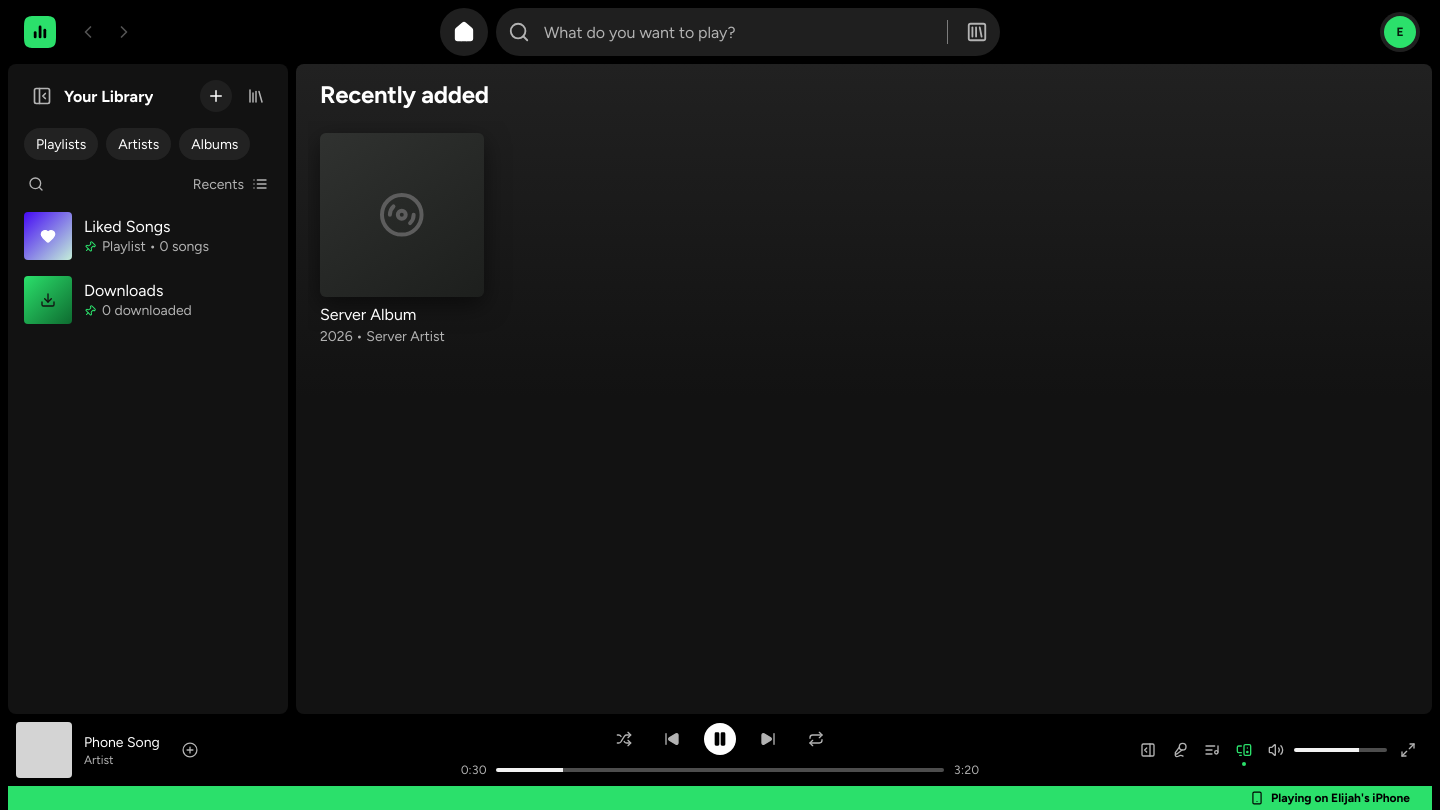
Test: Splynt Connect follow mode › follows the phone on its own when this computer is idle, without making a sound
The width and height of the screenshot is (1440, 810).
Expected: the navigation bar named "Main navigation" is shown, [440, 8, 1000, 56]
Expected: the button "Phone Song" is shown, [84, 734, 160, 750]
What coordinates should you click on to do the following:
click the button named "Queue"
I would click on:
 (1212, 750)
Its box is [1196, 734, 1228, 766].
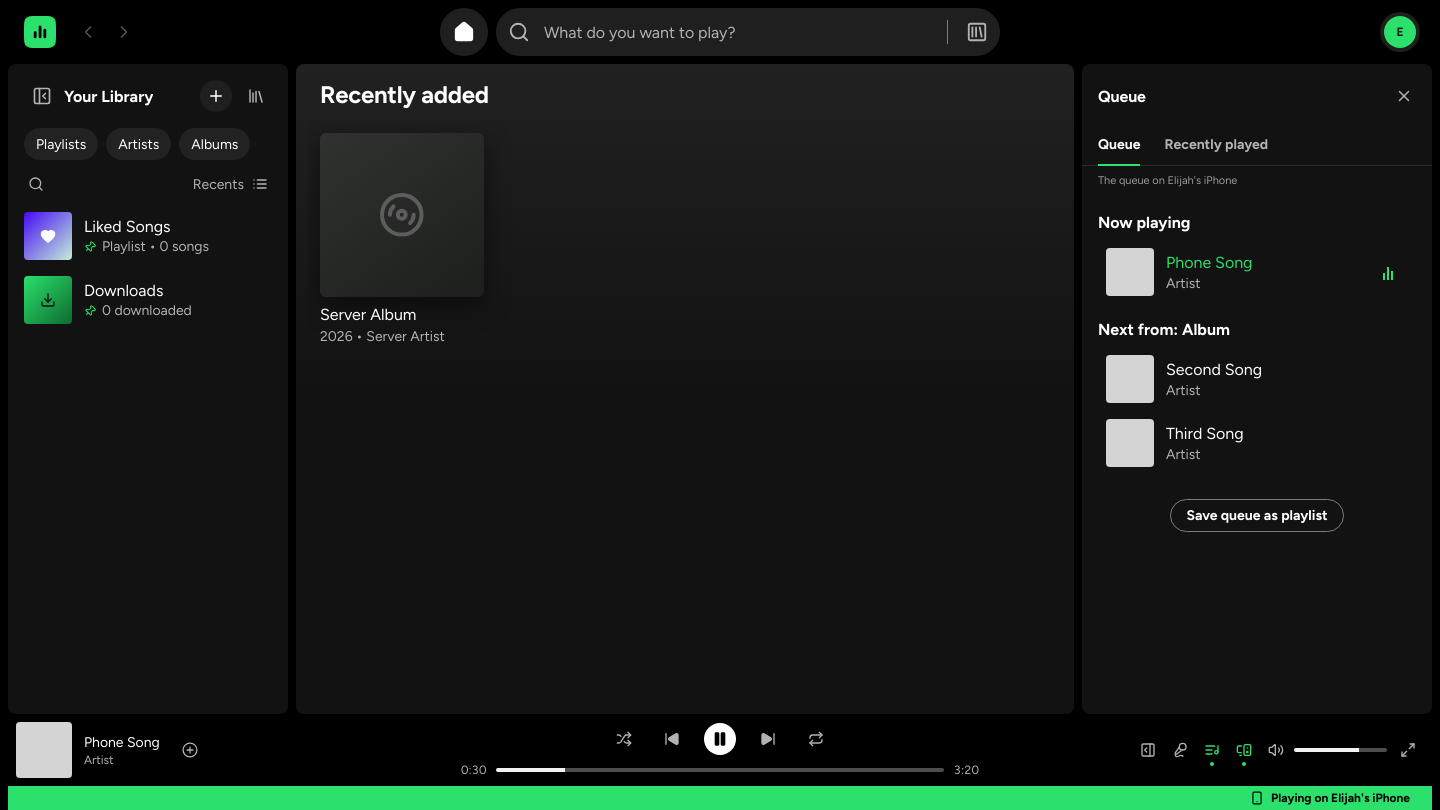
Result: the text "Third Song" is shown at [1166, 424, 1244, 442]
